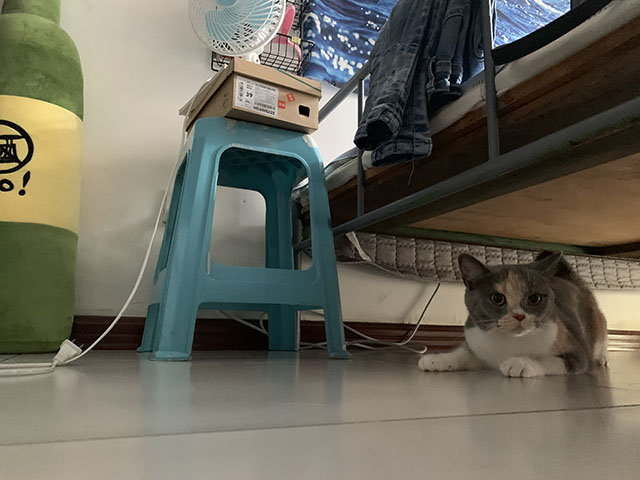bed: (291, 1, 639, 357)
stool: (136, 115, 353, 361)
wire: (1, 73, 441, 377)
